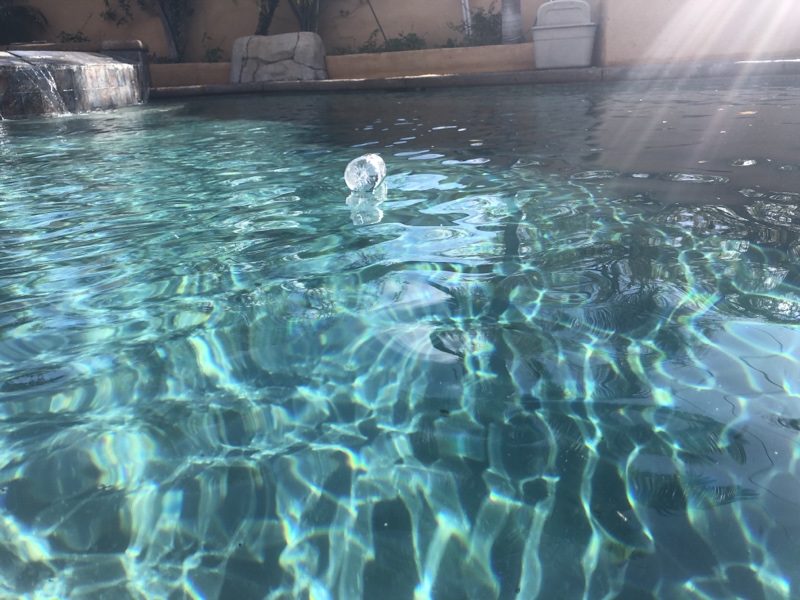Plastic Bottle: (340, 148, 388, 199)
